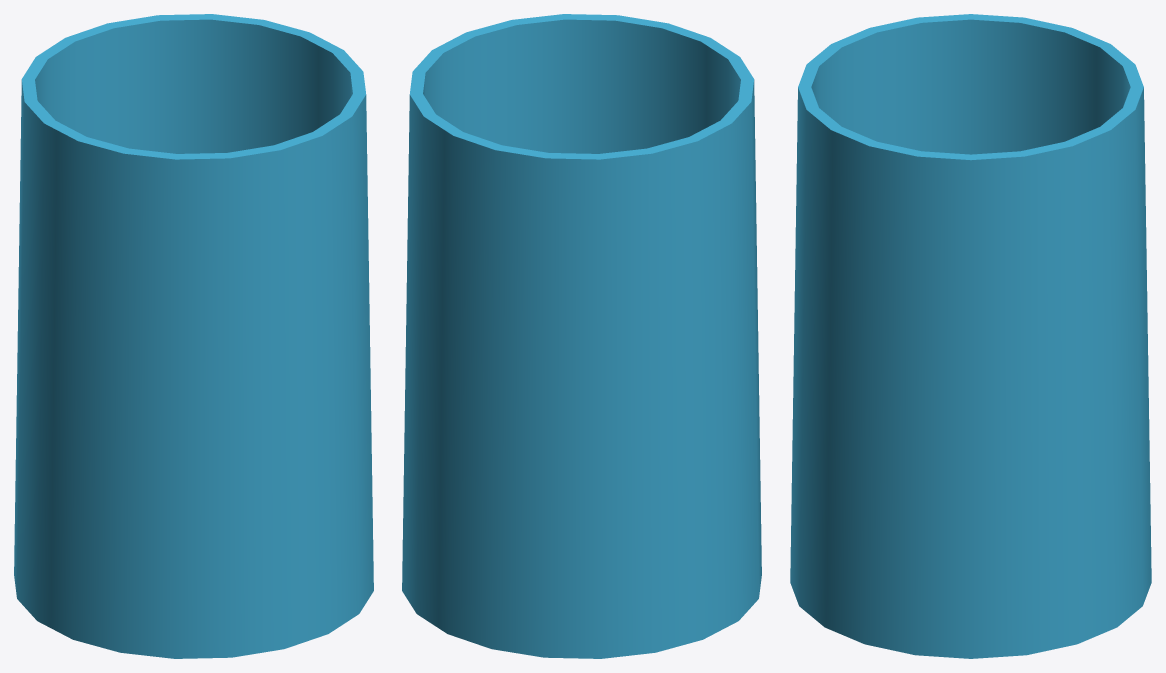
The model's file is Penholder.fbx.
3 views of the same model, side by side, from view 1: azimuth 30°, elevation 25°; view 2: azimuth 150°, elevation 25°; view 3: azimuth 270°, elevation 25° (orthographic).
Parts seen in each view (by area): view 1: Penholder; view 2: Penholder; view 3: Penholder.
Part boxes in pixels (x1,y1,x2,y2): Penholder: [14, 14, 373, 658]; Penholder: [402, 14, 761, 658]; Penholder: [790, 14, 1151, 658].
Size of the model in its own units: 7.89 by 11.93 by 7.89.
